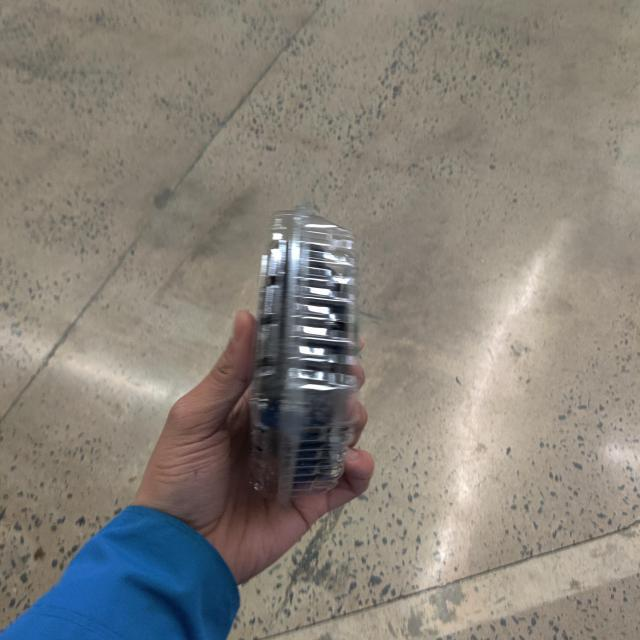Blackberries: (239, 218, 377, 514)
